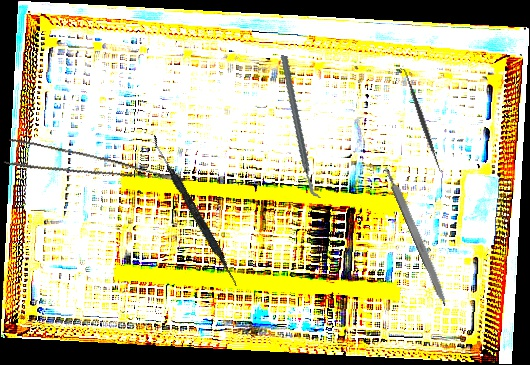Chopper: (253, 54, 349, 199)
Scalpel Handle: (383, 165, 451, 307)
Spatula Surgical: (146, 135, 243, 287), (398, 65, 446, 175)
Tissue Forceps: (2, 129, 185, 212)
